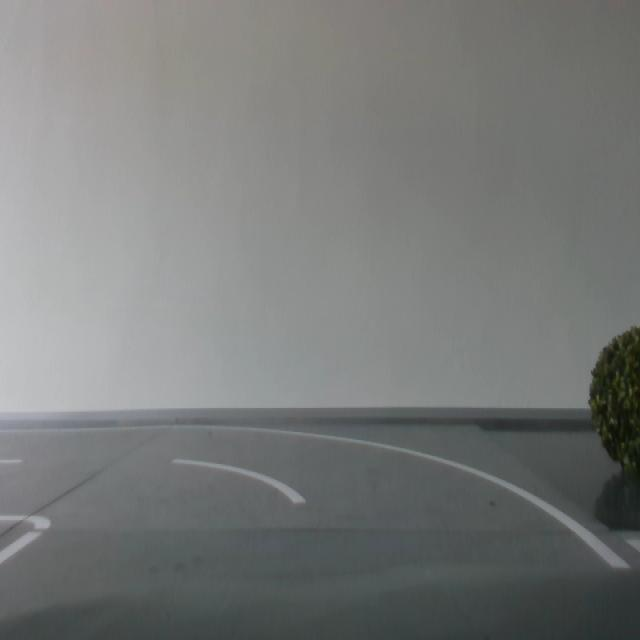potted plant: (589, 324, 640, 473)
